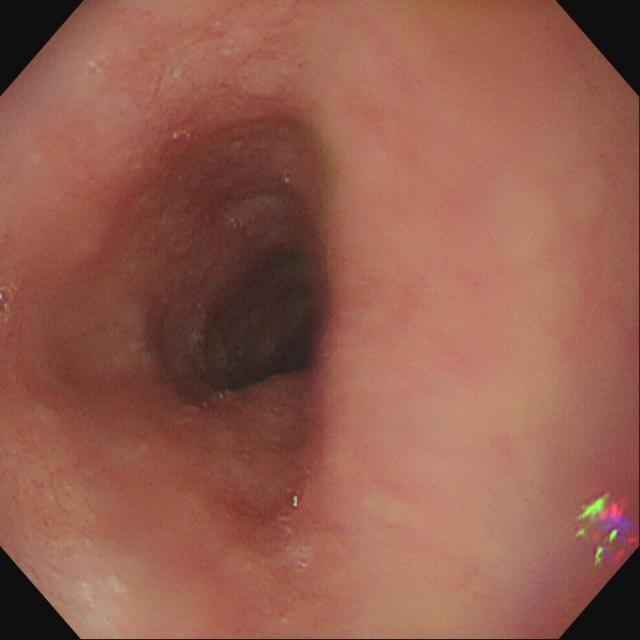E: (161, 217, 321, 396)
U: (577, 495, 639, 567)
